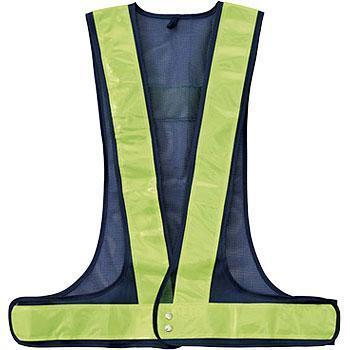vest: (3, 0, 341, 349)
